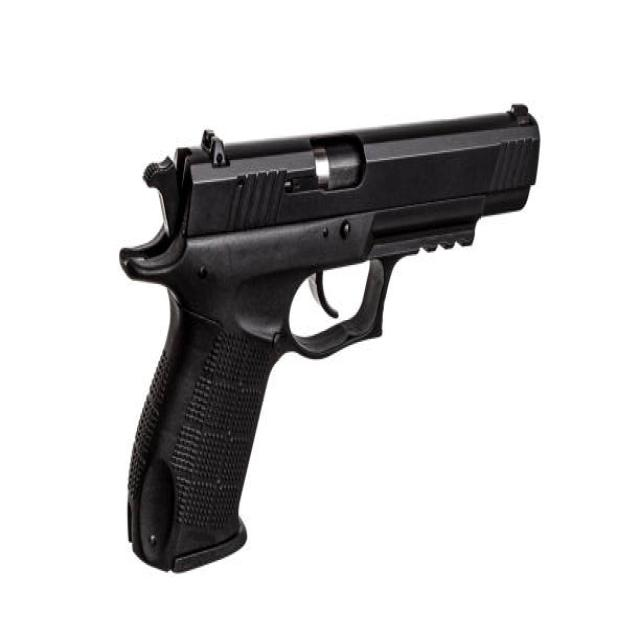pistol: (114, 90, 554, 586)
